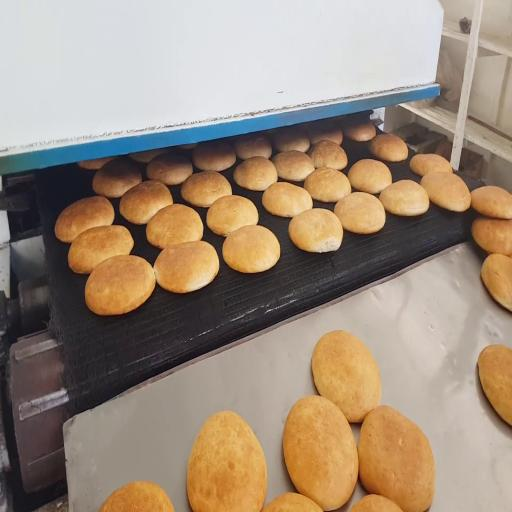bread: (283, 396, 358, 510), (358, 406, 435, 511), (187, 412, 267, 511), (312, 331, 381, 422), (85, 256, 155, 315), (154, 241, 219, 293), (68, 226, 133, 274), (55, 196, 114, 243), (223, 225, 280, 273), (478, 345, 511, 425), (146, 204, 203, 248), (120, 181, 173, 224), (289, 209, 342, 252), (99, 482, 174, 511), (334, 192, 385, 234), (207, 196, 258, 236), (421, 171, 470, 211), (92, 159, 142, 198), (379, 180, 429, 216), (181, 171, 231, 207), (481, 254, 511, 311), (262, 183, 312, 217), (304, 168, 351, 202), (348, 159, 392, 193), (234, 157, 277, 191), (472, 218, 511, 255), (147, 153, 192, 185), (471, 186, 511, 219), (272, 151, 315, 181), (193, 142, 236, 171), (308, 141, 347, 170), (370, 134, 408, 162), (263, 493, 322, 511), (234, 134, 271, 160), (410, 154, 452, 176), (274, 128, 309, 152), (350, 495, 402, 511), (344, 120, 375, 142), (308, 126, 342, 145), (130, 148, 169, 163), (78, 157, 115, 170), (179, 143, 196, 149)
